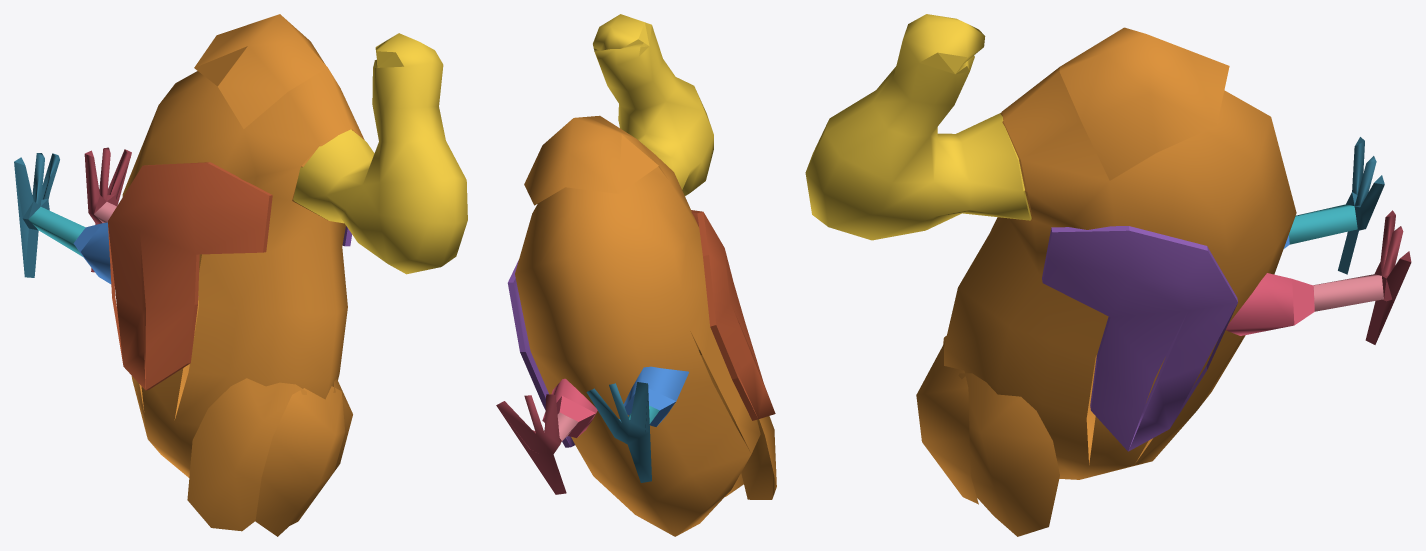
File: dodo_1m_30grados.obj
3 views of the same model, side by side, from view 1: azimuth 30°, elevation 25°; view 2: azimuth 150°, elevation 25°; view 3: azimuth 270°, elevation 25° (orthographic). The views are drawn at different scales.
Parts seen in each view (by area): view 1: 01_cuerpo, 02_cabeza, 03_pieza_frontal, 07_pata_a_pie, 10_pata_b_pie, 05_pata_a_muslo, 06_pata_a_canilla; view 2: 01_cuerpo, 02_cabeza, 03_pieza_frontal, 07_pata_a_pie, 10_pata_b_pie, 05_pata_a_muslo, 04_pieza_lateral, 08_pata_b_muslo, 09_pata_b_canilla; view 3: 01_cuerpo, 02_cabeza, 04_pieza_lateral, 08_pata_b_muslo, 10_pata_b_pie, 07_pata_a_pie, 09_pata_b_canilla, 06_pata_a_canilla.
Boxes of the visible parts, x1,y1,x2,y2 form: 01_cuerpo: (122, 14, 364, 536); 02_cabeza: (293, 33, 467, 274); 03_pieza_frontal: (108, 162, 272, 390); 07_pata_a_pie: (14, 153, 59, 277); 10_pata_b_pie: (84, 147, 131, 272); 05_pata_a_muslo: (73, 222, 111, 284); 06_pata_a_canilla: (28, 207, 85, 256); 01_cuerpo: (515, 115, 776, 536); 02_cabeza: (593, 14, 713, 195); 03_pieza_frontal: (691, 210, 775, 420); 07_pata_a_pie: (586, 382, 651, 482); 10_pata_b_pie: (496, 394, 566, 494); 05_pata_a_muslo: (623, 366, 688, 426); 04_pieza_lateral: (507, 260, 574, 447); 08_pata_b_muslo: (542, 378, 597, 437); 09_pata_b_canilla: (544, 412, 578, 440); 01_cuerpo: (916, 27, 1296, 536); 02_cabeza: (805, 14, 1031, 240); 04_pieza_lateral: (1042, 226, 1237, 451); 08_pata_b_muslo: (1226, 273, 1314, 335); 10_pata_b_pie: (1365, 210, 1411, 344); 07_pata_a_pie: (1338, 137, 1384, 274); 09_pata_b_canilla: (1313, 274, 1383, 311); 06_pata_a_canilla: (1289, 204, 1357, 244).
Size of the model in its own units: 527 by 1019 by 1000.
